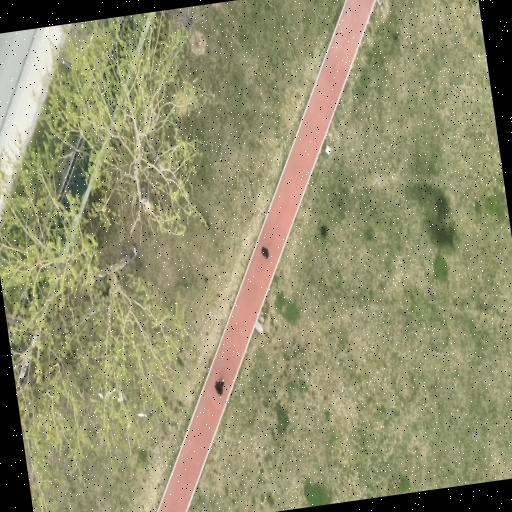person: (215, 379, 224, 395), (261, 247, 268, 259)
